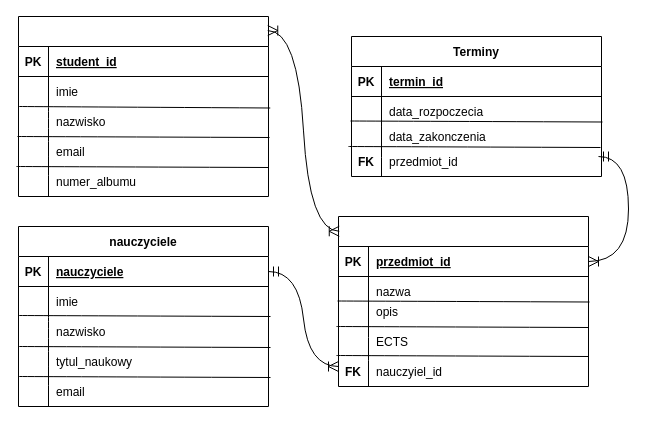
This 645x423 diagram has some shape labels left out. The shapes that lost their labels are listed below. From the top down, each one's box as (x1, y1, x2, y2) in pixels, then its label:
(18, 16, 268, 196): studenci
(338, 216, 588, 386): Przedmioty
